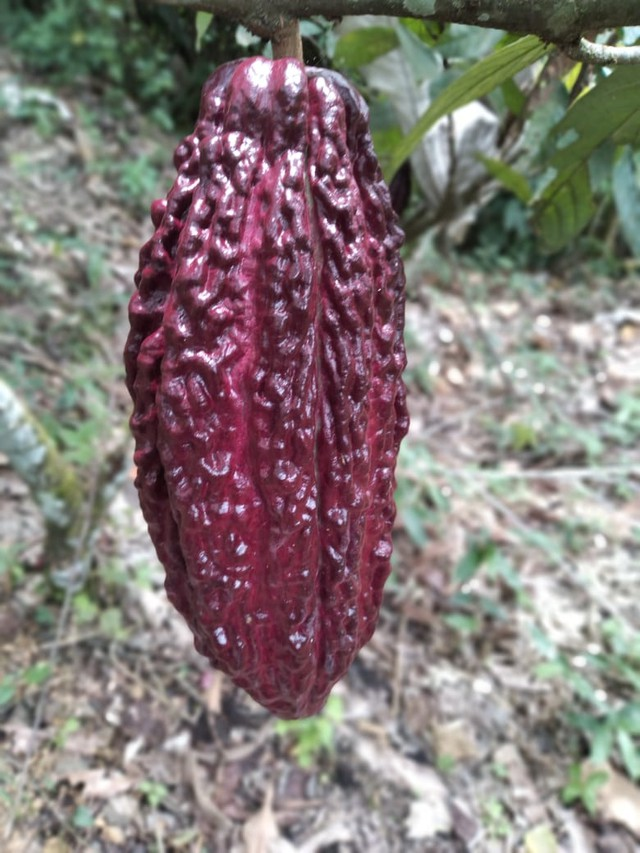Health: (117, 49, 416, 727)
